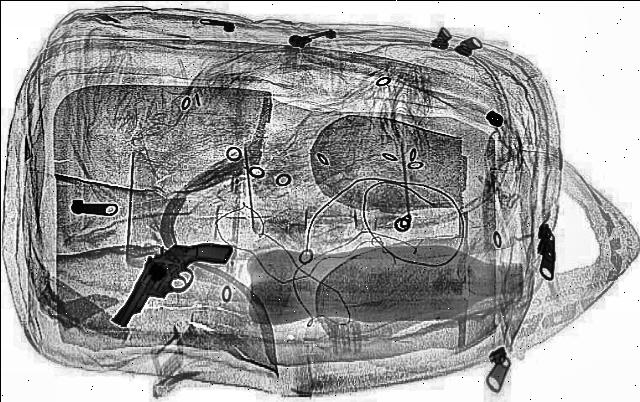Gun: (91, 228, 239, 334)
